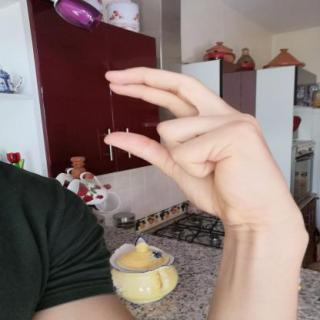DHELL: (90, 58, 315, 230)
